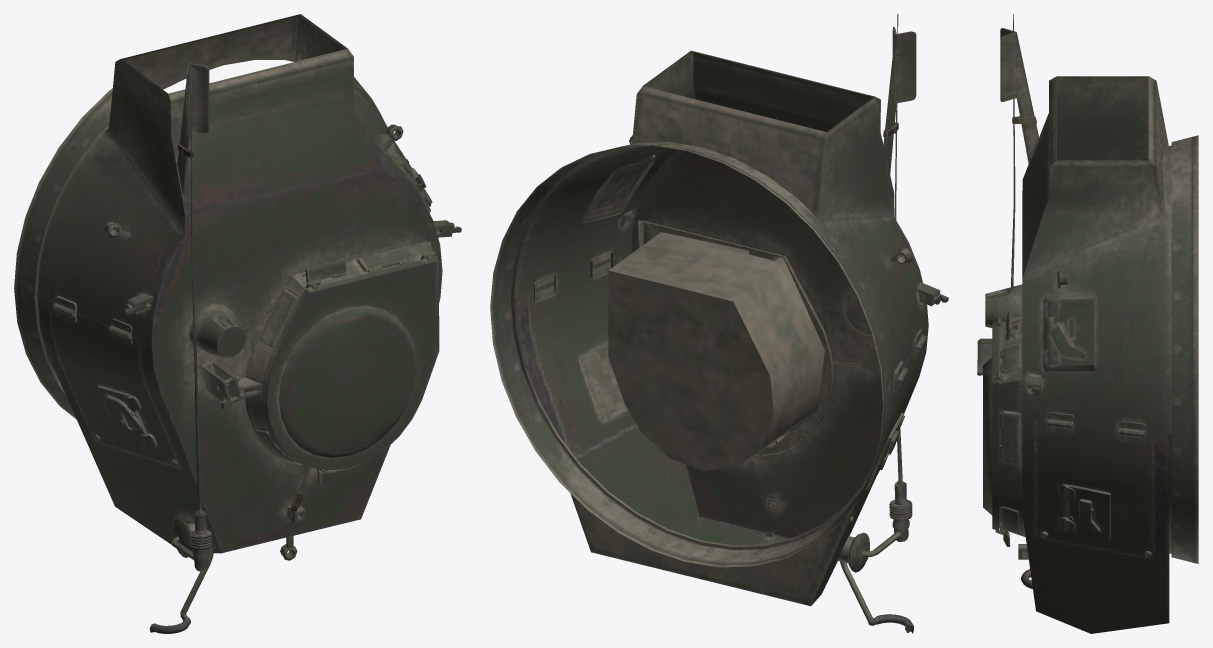
The model's file is Turret_01.glb.
The picture shows the model from 3 angles, left to right: view 1: azimuth 30°, elevation 25°; view 2: azimuth 150°, elevation 25°; view 3: azimuth 270°, elevation 25°; orthographic projection. The views are drawn at different scales.
Parts seen in each view (by area): view 1: set_0_group_0; view 2: set_0_group_0; view 3: set_0_group_0.
Boxes of the visible parts, x1,y1,x2,y2 form: set_0_group_0: (14,14,461,633); set_0_group_0: (490,14,948,633); set_0_group_0: (977,14,1198,633).
Bounding box in the file's own units: 1.44 × 2.11 × 0.7422.
Materials: 1 (1 with a texture image).
